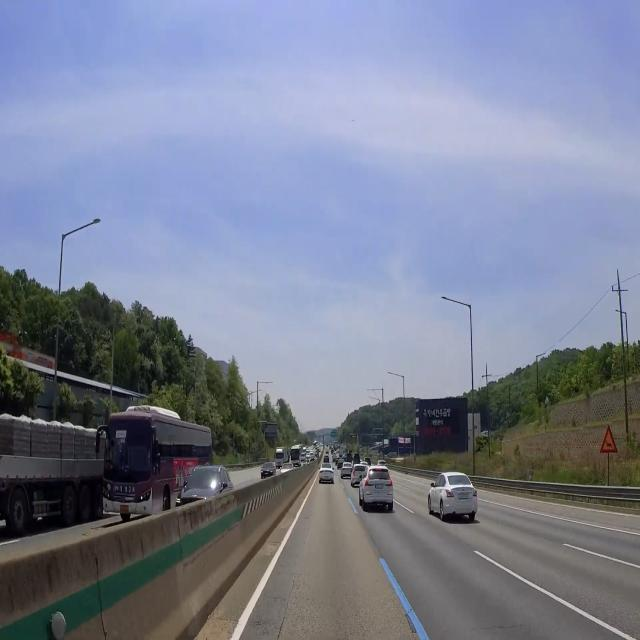car: (117, 502, 132, 519), (457, 490, 470, 505), (373, 482, 386, 494), (322, 472, 330, 483), (264, 470, 270, 475)
